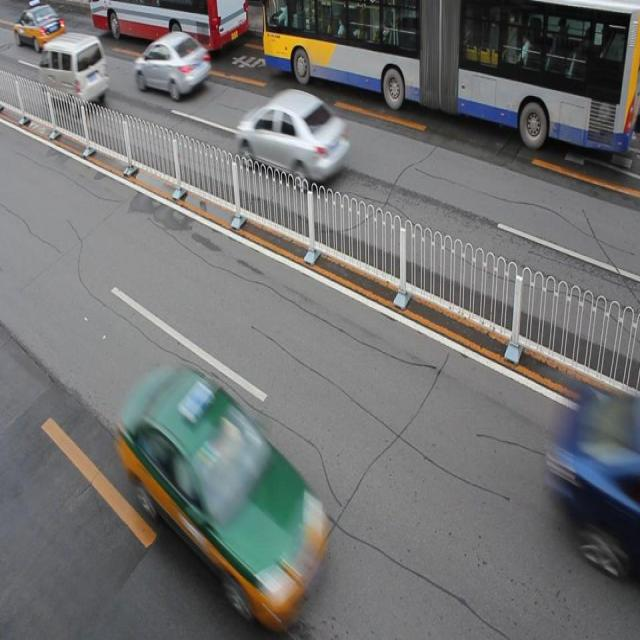car: (119, 370, 328, 607), (236, 87, 348, 190), (134, 31, 211, 99), (14, 1, 65, 51)
truck: (40, 32, 109, 108)
van: (262, 1, 640, 154), (91, 1, 248, 52)
